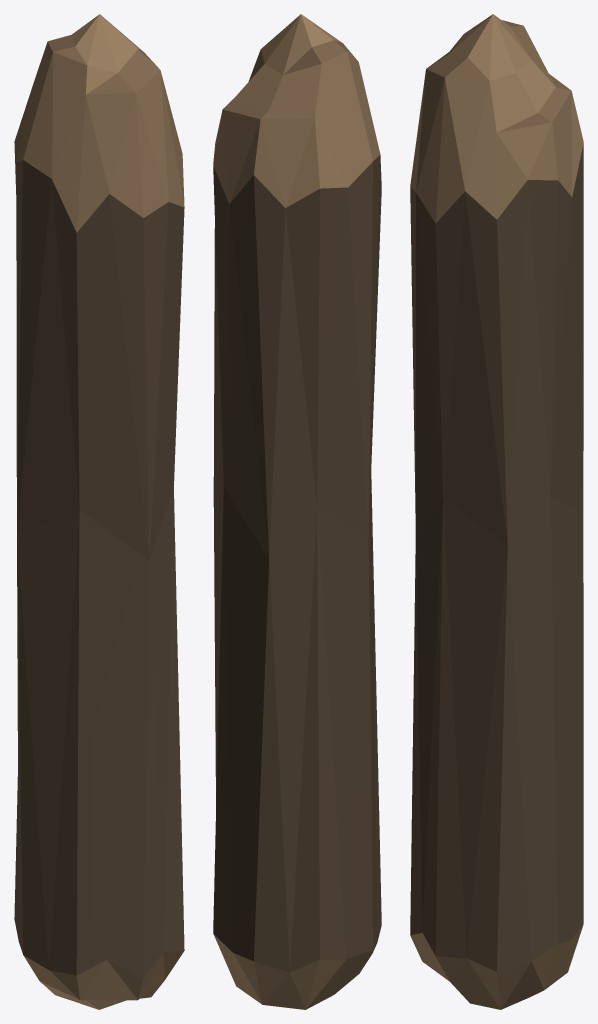
The model's file is SM_Prop_Log_Spike_06.glb.
The picture shows the model from 3 angles, left to right: view 1: azimuth 30°, elevation 25°; view 2: azimuth 150°, elevation 25°; view 3: azimuth 270°, elevation 25°; orthographic projection.
Parts seen in each view (by area): view 1: SM_Prop_Log_Spike_06; view 2: SM_Prop_Log_Spike_06; view 3: SM_Prop_Log_Spike_06.
Boxes of the visible parts, left/top/right/bottom form: SM_Prop_Log_Spike_06: left=14, top=14, right=184, bottom=1009; SM_Prop_Log_Spike_06: left=213, top=14, right=381, bottom=1009; SM_Prop_Log_Spike_06: left=410, top=14, right=583, bottom=1009.
Bounding box in the file's own units: 0.00417 × 0.0255 × 0.00408.
1 material, 1 textured.
